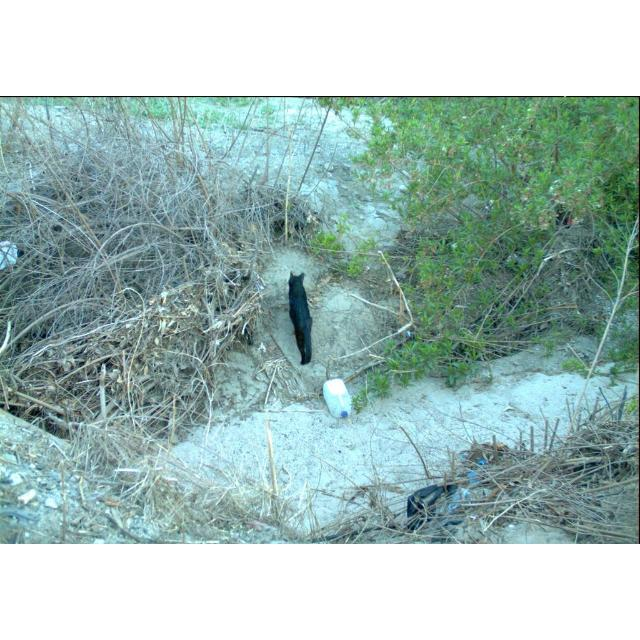animals: (288, 267, 316, 371)
